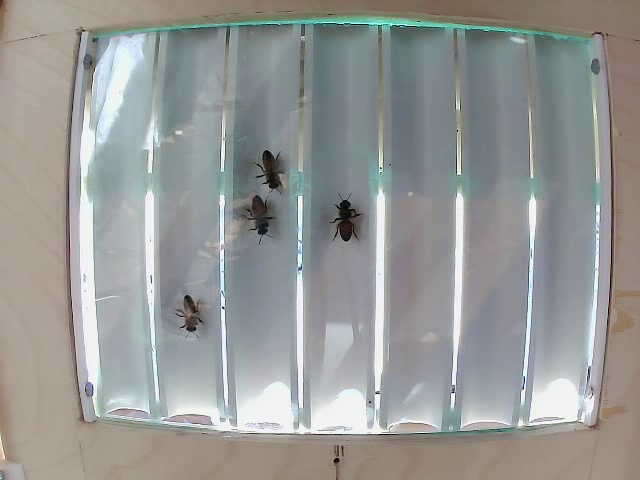bee: (240, 190, 267, 233), (181, 292, 209, 325), (330, 193, 351, 235), (256, 152, 278, 187)
